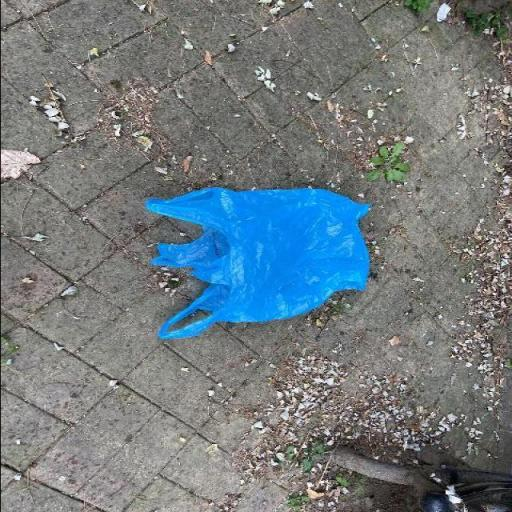plastic-bag: (144, 190, 374, 346)
